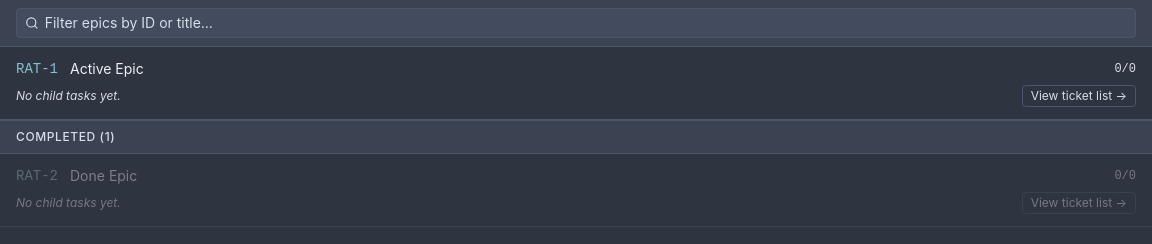
Test case: EpicsTab — filter bar › filter applies to the Completed section too
This screenshot has width=1152, height=244.
Step 1. Type "Done Epic" into the field labelled "Filter epics by ID or title…" → [587, 23], box top-left (39, 9), bottom-right (1135, 37)
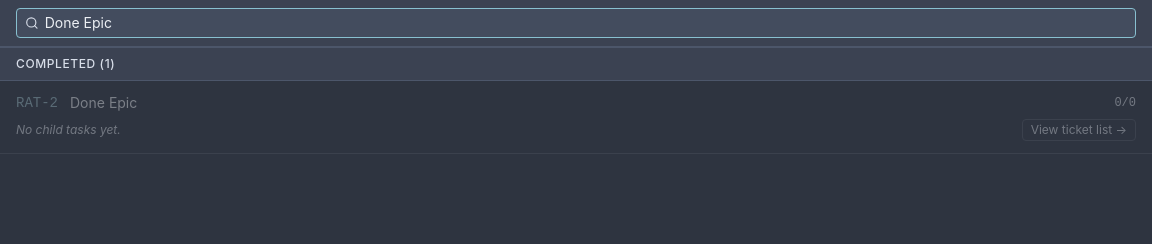
Expected: the text "Done Epic" is shown, top-left (70, 94), bottom-right (137, 111)
Expected: the button "Active Epic" is gone
